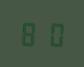eight: (19, 19, 40, 46)
zero: (41, 19, 62, 47)
